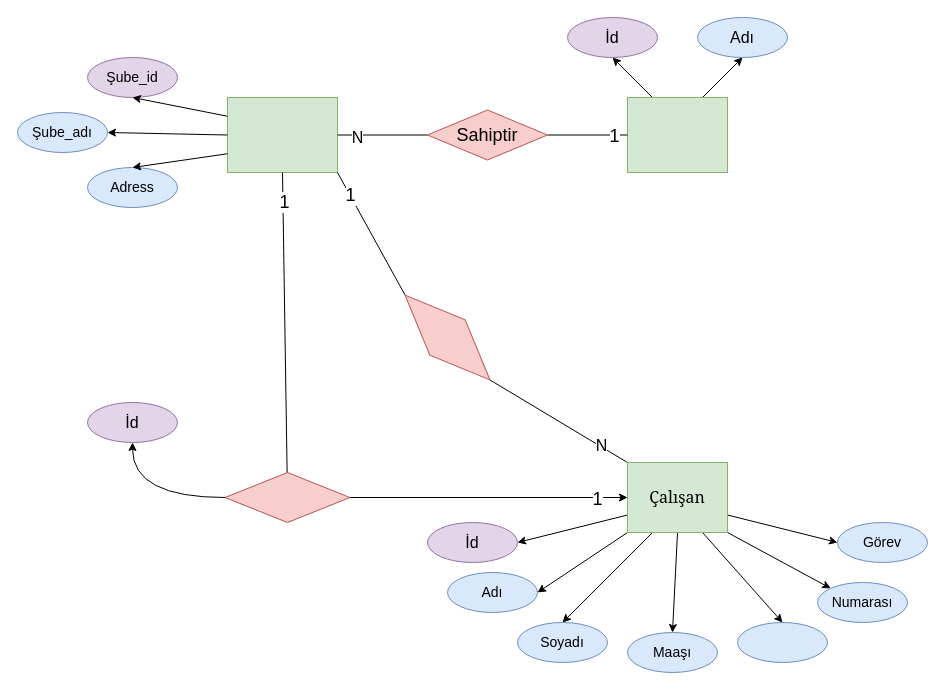
This 945x690 diagram has some shape labels left out. The shapes that lost their labels are listed below. From the top down, each one's centre as x and y in pixels, then its label:
At point (282, 134): "Şube".
At point (677, 134): "Şirket".
At point (447, 337): "Çalışır".
At point (287, 497): "Yönetir".
At point (782, 642): "Adresi".
